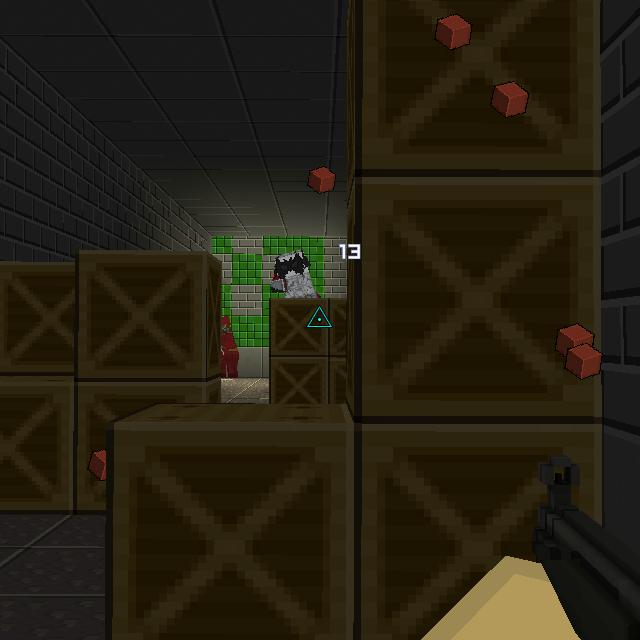enemy: (269, 247, 321, 301), (220, 313, 241, 380)
